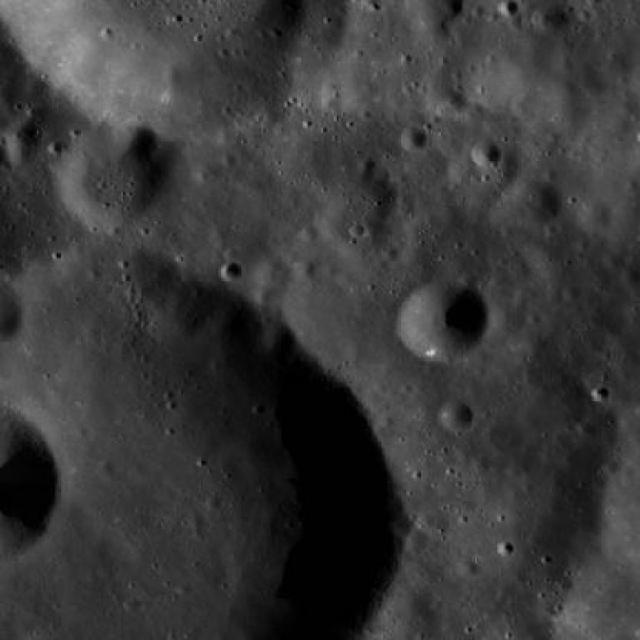crater: (56, 122, 175, 230), (398, 282, 488, 362), (317, 177, 405, 256), (448, 138, 520, 202), (526, 376, 592, 436), (376, 586, 436, 640), (507, 178, 562, 230), (148, 294, 204, 344), (480, 301, 526, 341), (2, 122, 44, 158), (255, 256, 292, 290), (577, 201, 614, 234), (417, 18, 452, 50), (438, 401, 472, 432), (534, 3, 568, 34), (263, 324, 297, 354), (436, 89, 464, 117), (472, 140, 501, 166), (400, 127, 426, 150), (403, 531, 429, 554), (552, 78, 576, 100), (620, 266, 640, 288), (392, 516, 414, 536), (458, 558, 480, 576), (221, 263, 241, 282), (472, 455, 492, 473), (296, 260, 315, 278), (498, 0, 518, 17), (300, 224, 318, 242), (604, 253, 622, 270), (254, 289, 272, 305), (562, 284, 580, 300), (497, 540, 514, 556), (358, 157, 374, 172), (384, 246, 401, 260), (0, 0, 2, 2)
